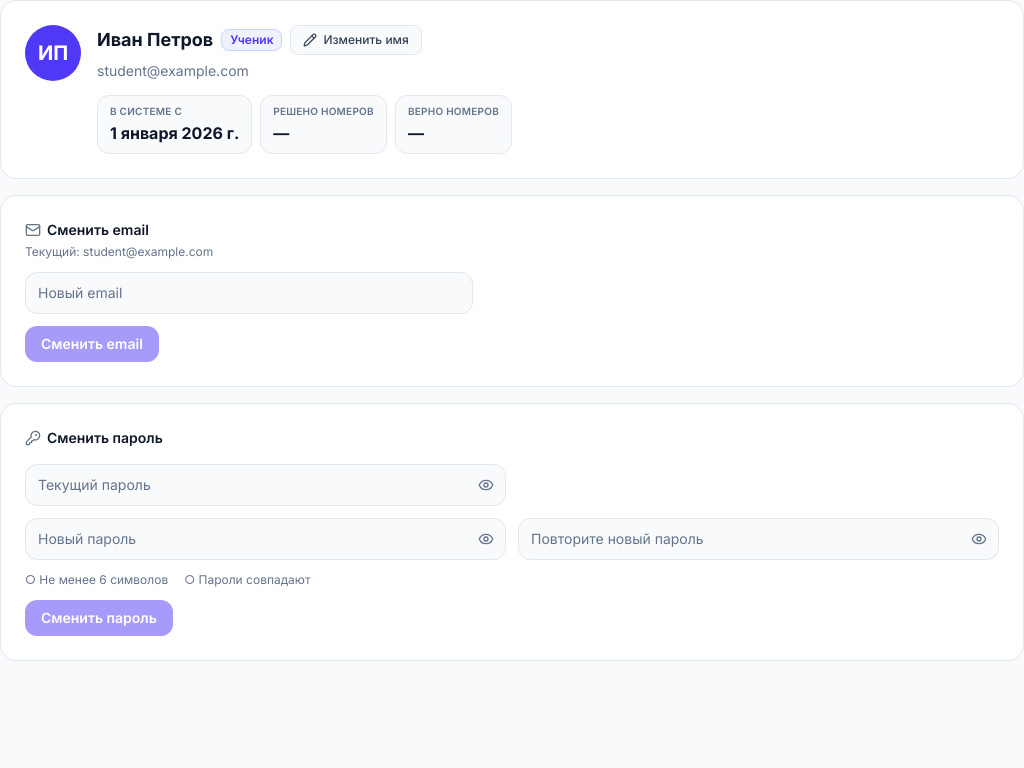
Scenario: Student ProfilePage — смена имени и фамилии через модал › показывает ошибку в модале при сбое Supabase и не вызывает refreshProfile
Expected: the text "Решено номеров" is shown, [273,104,374,119]
Click the button "Изменить имя": point(356, 40) [290,25,422,55]
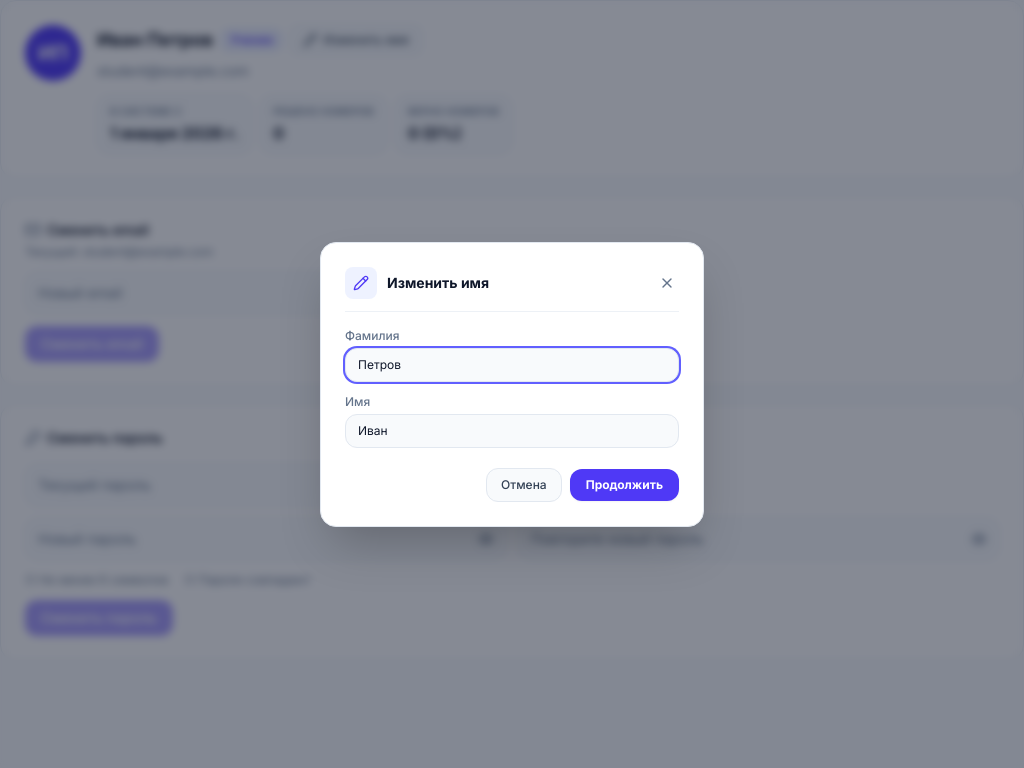
Replace the text in the field labelled "Имя" with "Пётр": point(512, 430) [345,414,679,448]
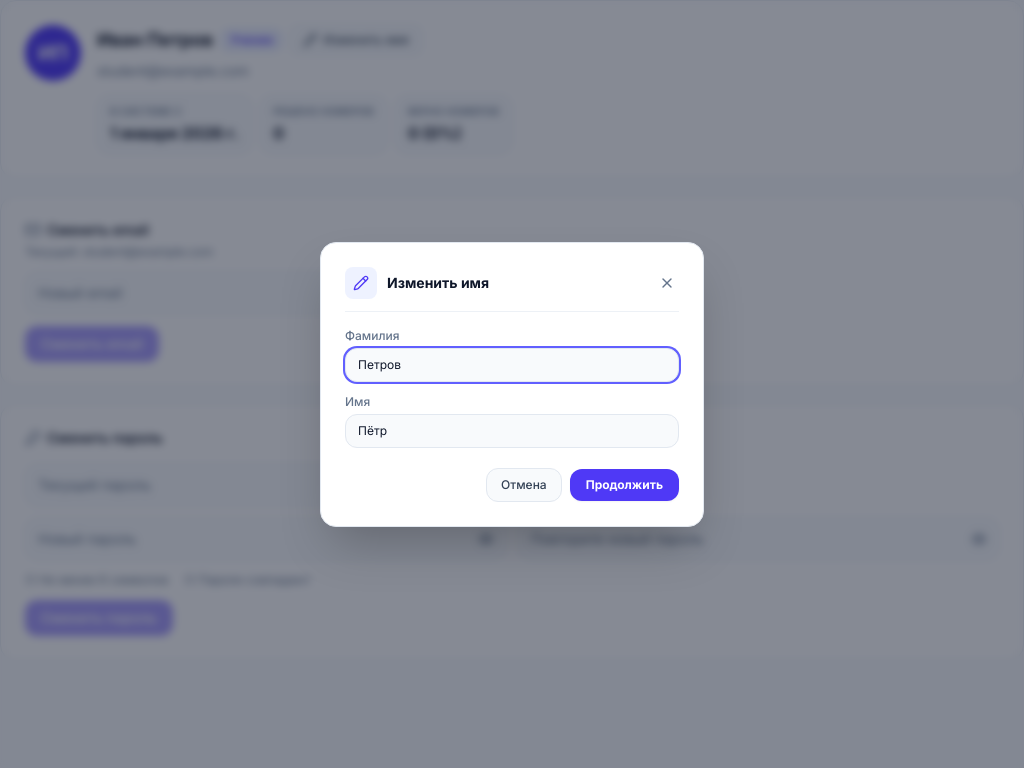
Click the button "Продолжить": point(624, 484) [570,468,679,500]
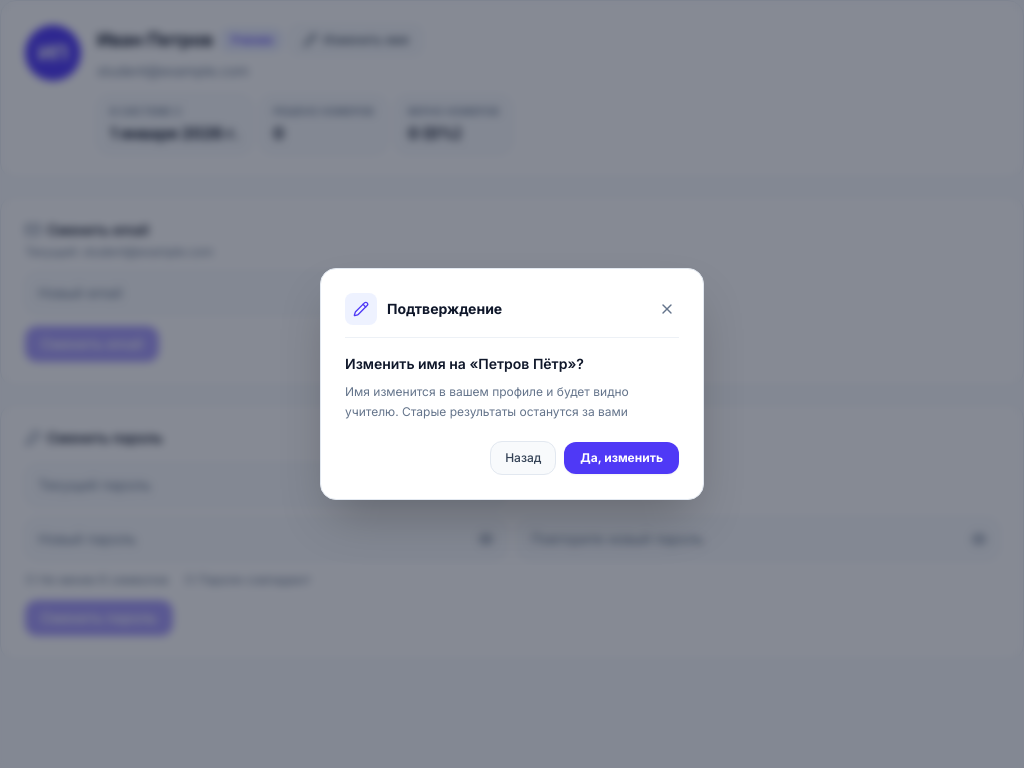
Click the button "Да, изменить": point(622, 458) [564,442,679,474]
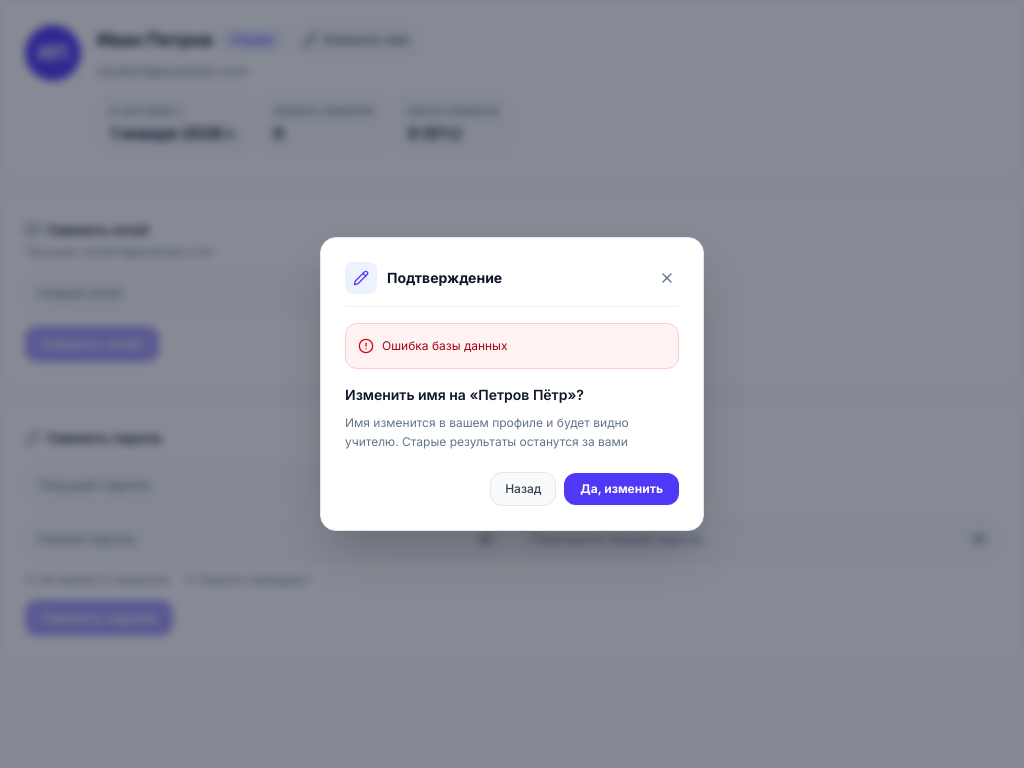
Expected: the dialog is shown, [320,237,704,531]
Expected: the text "Ошибка базы данных" is shown, [382,336,508,356]
